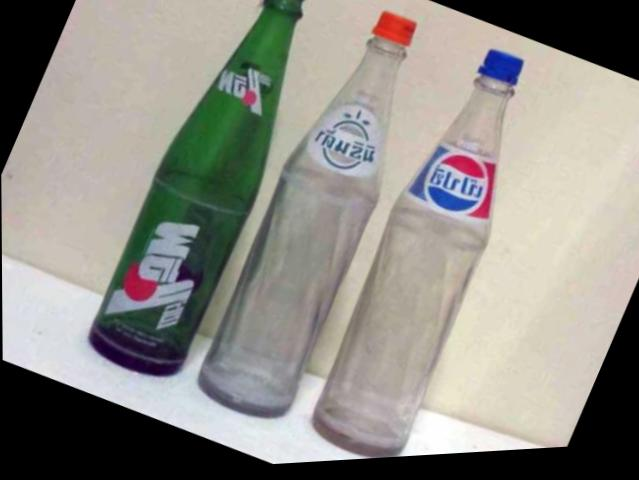glass: (307, 13, 522, 456), (199, 23, 413, 417), (89, 0, 300, 374)
